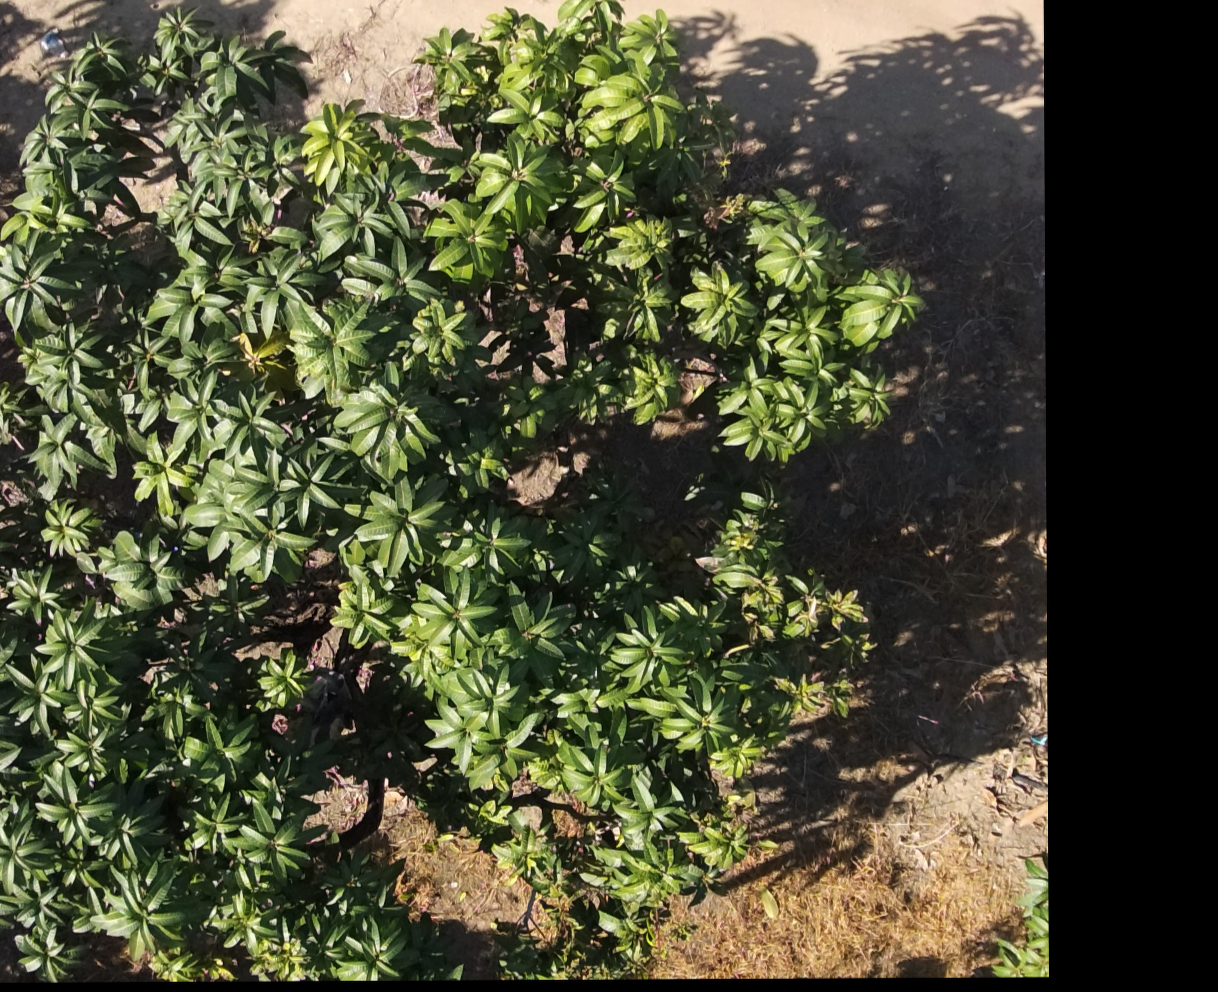flowers: (499, 968, 522, 980)
